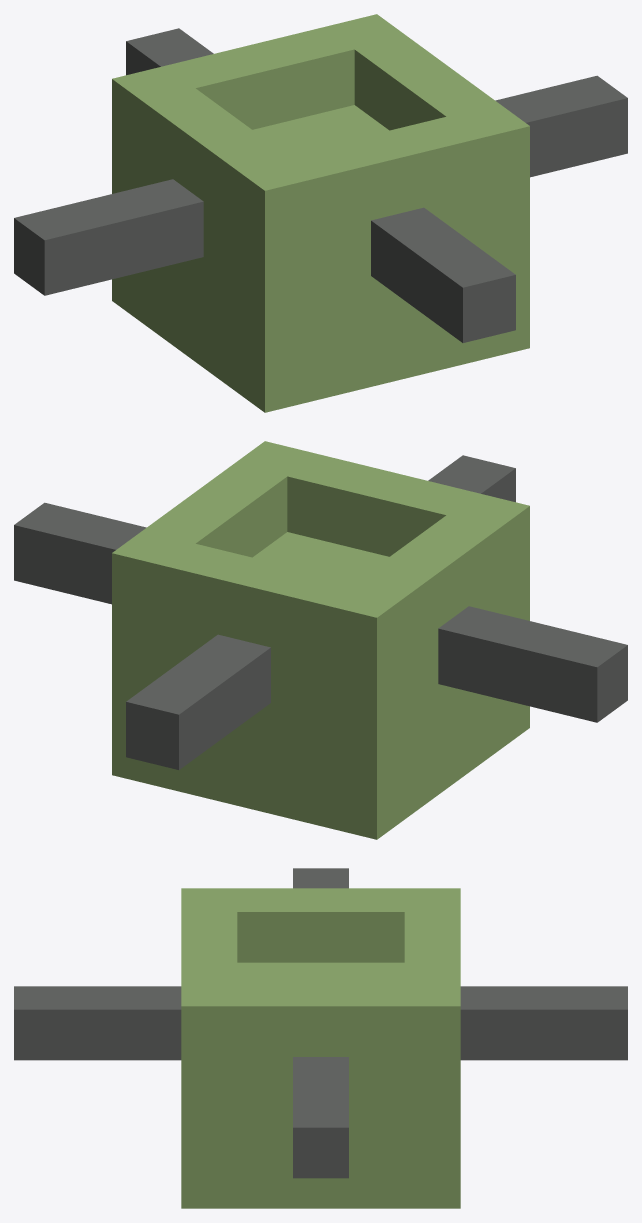
Rendered from OrganRot2.obj.
3 renders of one model, top to bottom at view 1: azimuth 30°, elevation 25°; view 2: azimuth 150°, elevation 25°; view 3: azimuth 270°, elevation 25°, orthographic. The views are drawn at different scales.
Size of the model in its own units: 11 by 4 by 11.
1 material, 1 textured.
